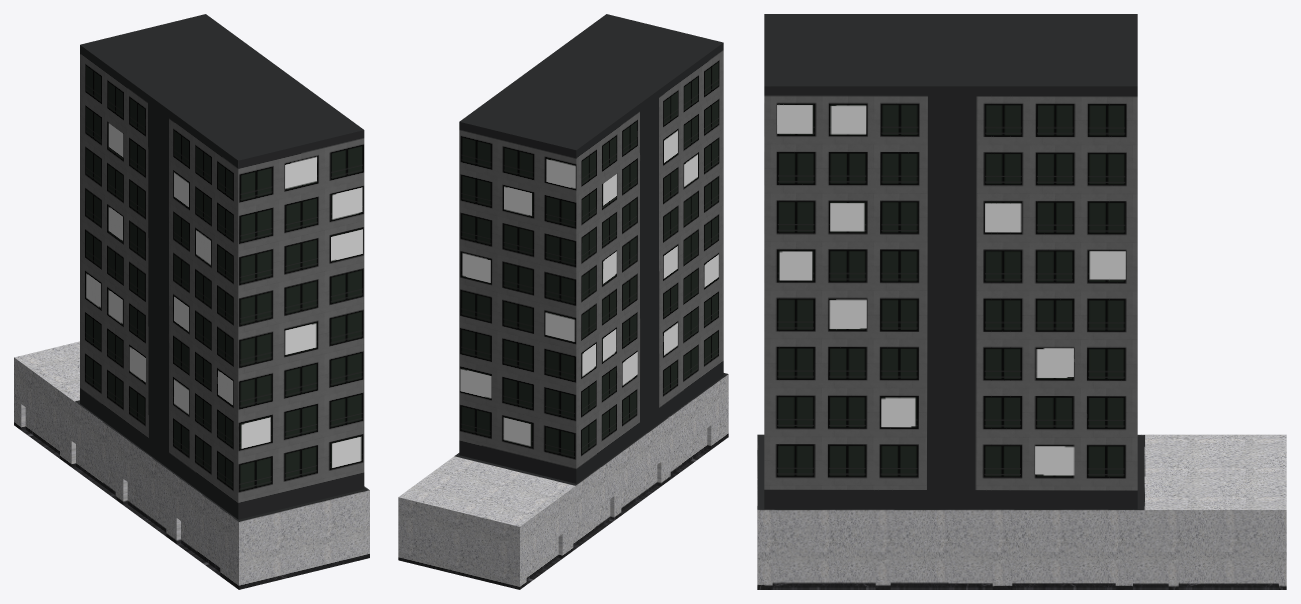
The model's file is building7-1.fbx.
3 renders of one model, left to right at view 1: azimuth 30°, elevation 25°; view 2: azimuth 150°, elevation 25°; view 3: azimuth 270°, elevation 25°, orthographic. The views are drawn at different scales.
Parts seen in each view (by area): view 1: building7; view 2: building7; view 3: building7.
Boxes of the visible parts, bbox=[...] form: building7: bbox=[14, 14, 369, 589]; building7: bbox=[398, 14, 728, 589]; building7: bbox=[757, 14, 1286, 589].
Bounding box in the file's own units: 2102 × 6543 × 6254.
